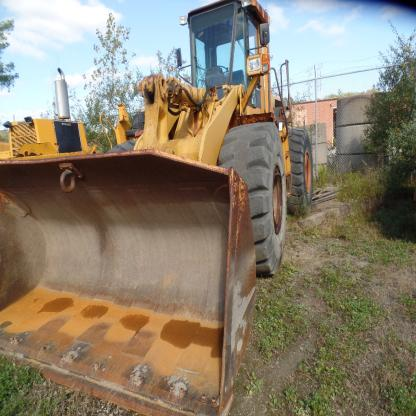bull_dozer/loader/grader: (3, 4, 325, 415)
